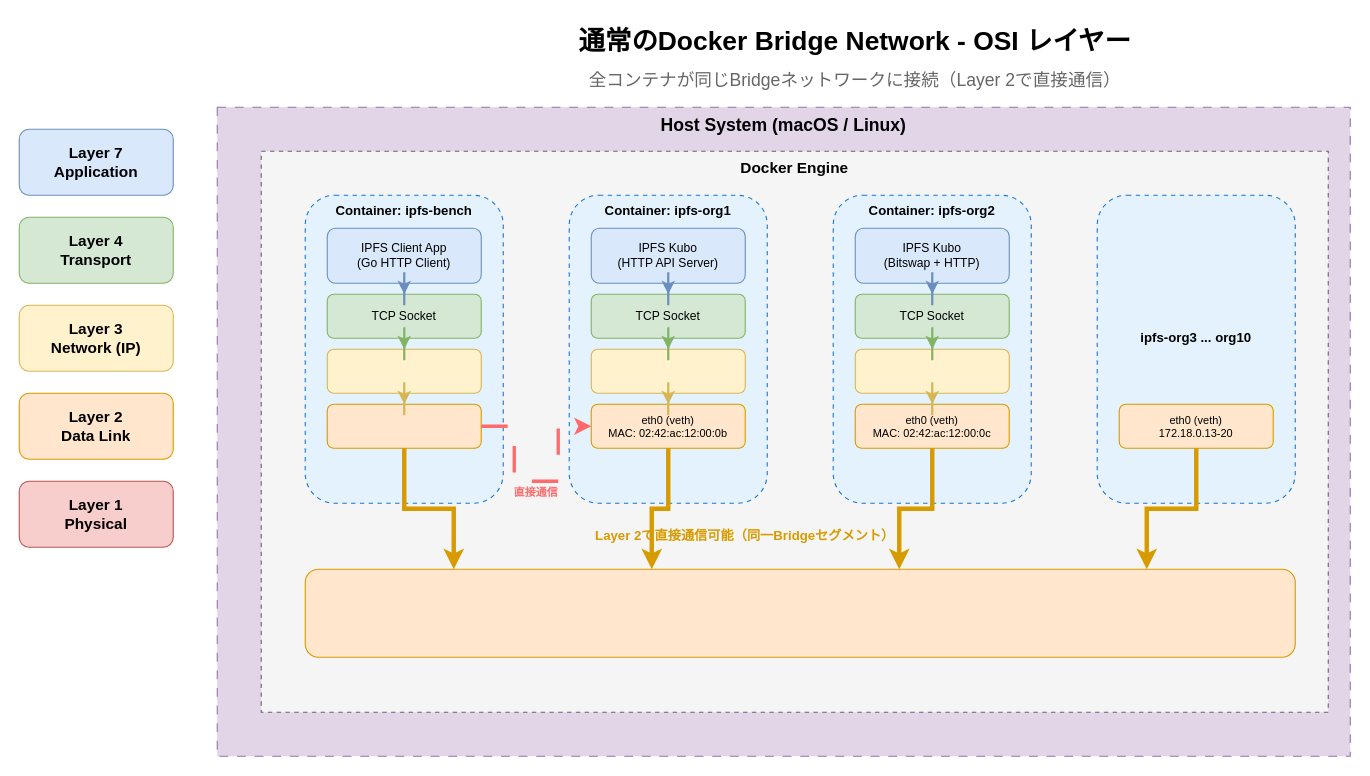
The diagram is 1370 pixels wide and 776 high, and some of its shapes have lost their labels. The centre of each missing label's shape, as x and y in pixels:
"Docker Bridge (br-docker0 or custom) Subnet: 172.18.0.0/16 Layer 2 Switch" goes at point 799,612.
"eth0 (veth) MAC: 02:42:ac:12:00:0a" goes at point 403,425.
"IP: 172.18.0.10/16" goes at point 403,370.
"IP: 172.18.0.11/16" goes at point 667,370.
"IP: 172.18.0.12/16" goes at point 931,370.
